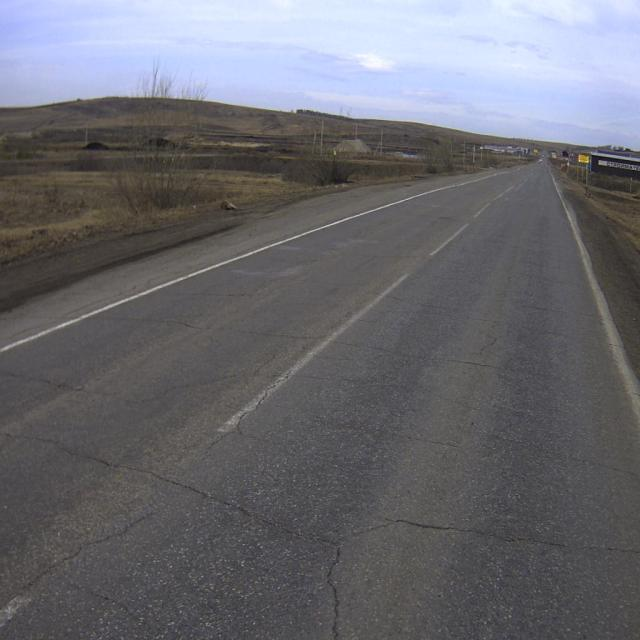road: (0, 160, 640, 639), (638, 372, 640, 385)
